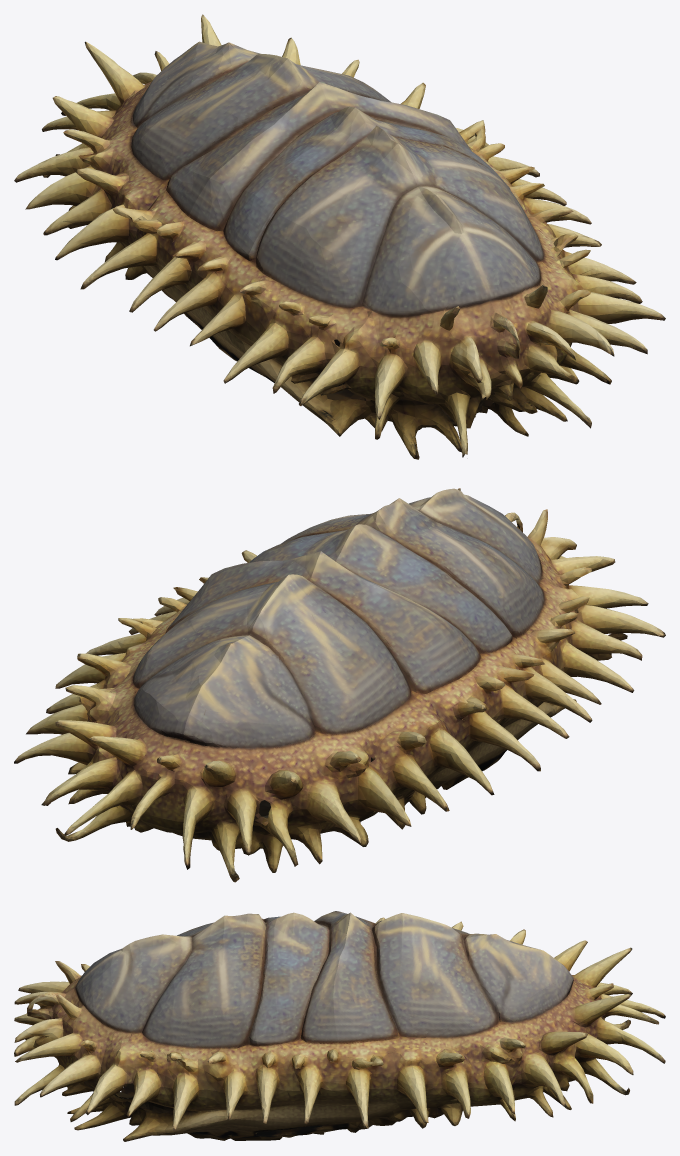
The picture shows the model from 3 angles, top to bottom: view 1: azimuth 30°, elevation 25°; view 2: azimuth 150°, elevation 25°; view 3: azimuth 270°, elevation 25°; orthographic projection. The views are drawn at different scales.
Visible parts, largest first — view 1: world; view 2: world; view 3: world.
Boxes of the visible parts, box(x1,y1,x2,y2) form: world: box(14, 14, 665, 459); world: box(14, 488, 665, 882); world: box(14, 911, 665, 1141).
Size of the model in its own units: 0.0535 by 0.0292 by 0.0817.
1 material, 1 textured.
